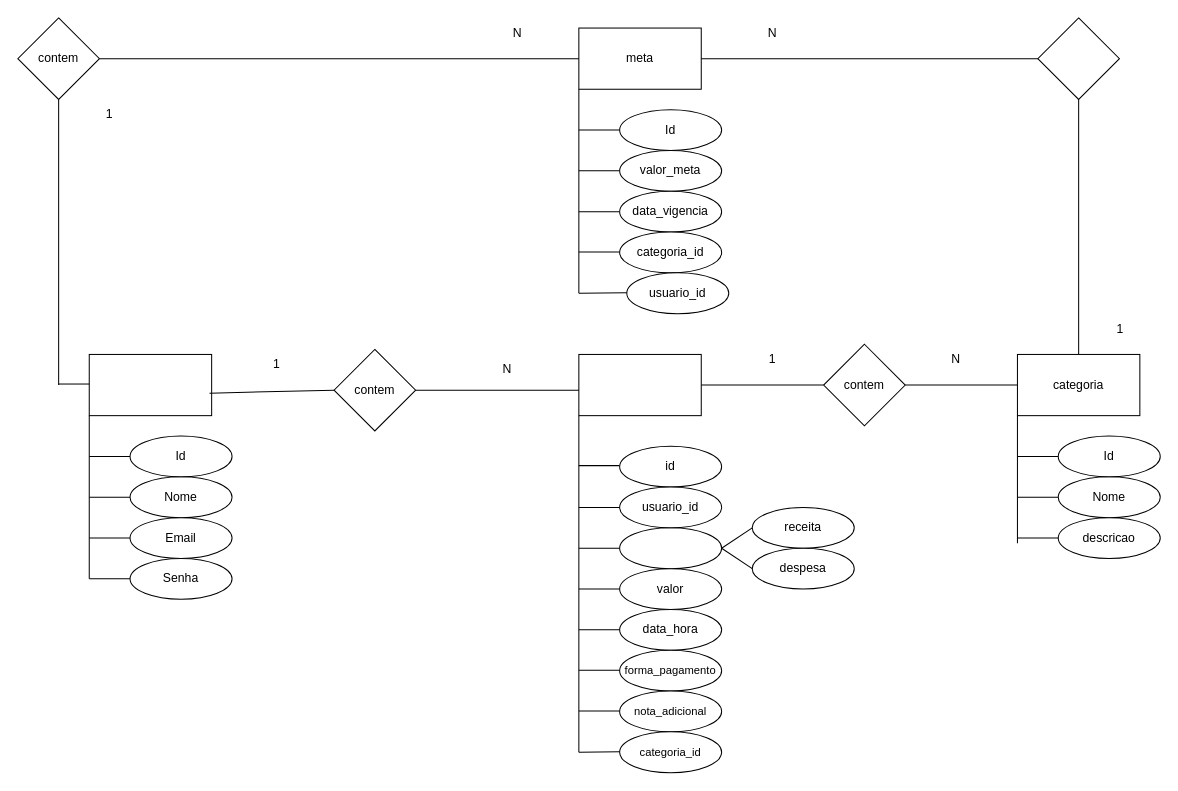
This 1178x791 diagram has some shape labels left out. Here are the shapes that lost their labels. From the top down, the centre of each, then its label:
At point 1078,58: "pertence".
At point 150,384: "Usuarios".
At point 639,384: "Transação".
At point 670,548: "tipo_transacao".
